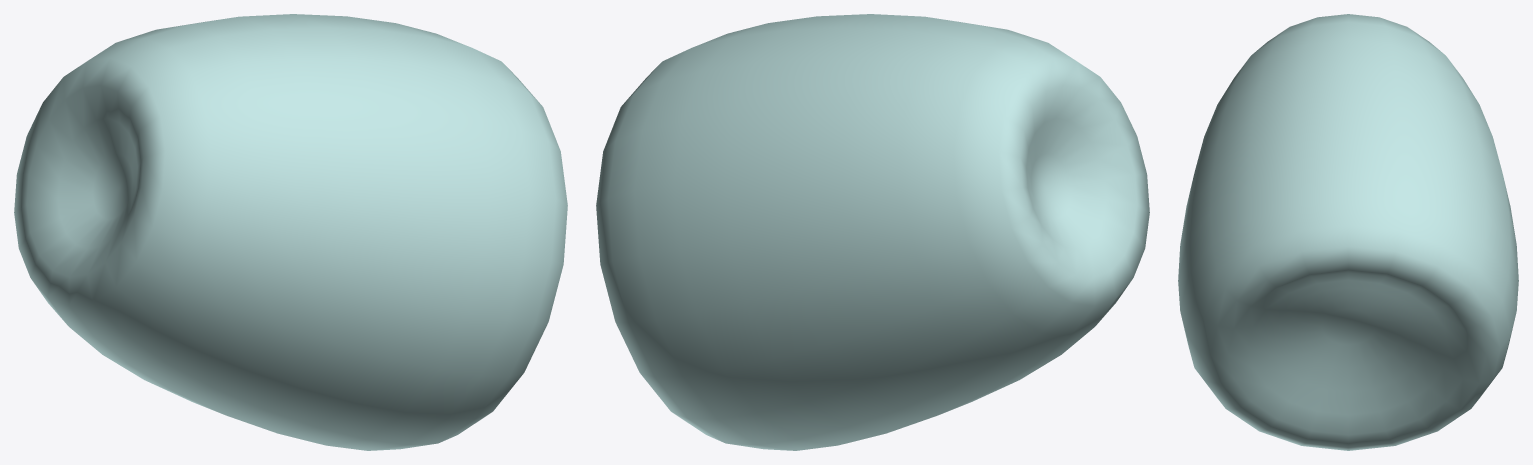
File: arm.fbx
The picture shows the model from 3 angles, left to right: view 1: azimuth 30°, elevation 25°; view 2: azimuth 150°, elevation 25°; view 3: azimuth 270°, elevation 25°; orthographic projection. The views are drawn at different scales.
Visible parts, largest first — view 1: pSphere8; view 2: pSphere8; view 3: pSphere8.
Boxes of the visible parts, x1,y1,x2,y2 form: pSphere8: (14,14,567,450); pSphere8: (596,14,1149,450); pSphere8: (1178,14,1518,450).
Size of the model in its own units: 4.32 by 3.81 by 3.4.
